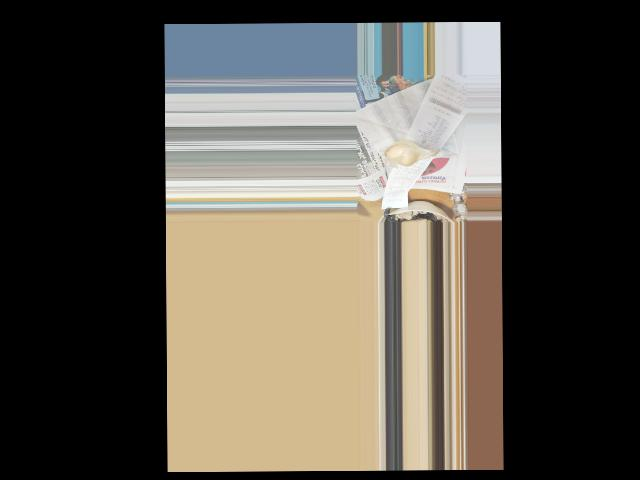onion: (386, 141, 427, 164)
